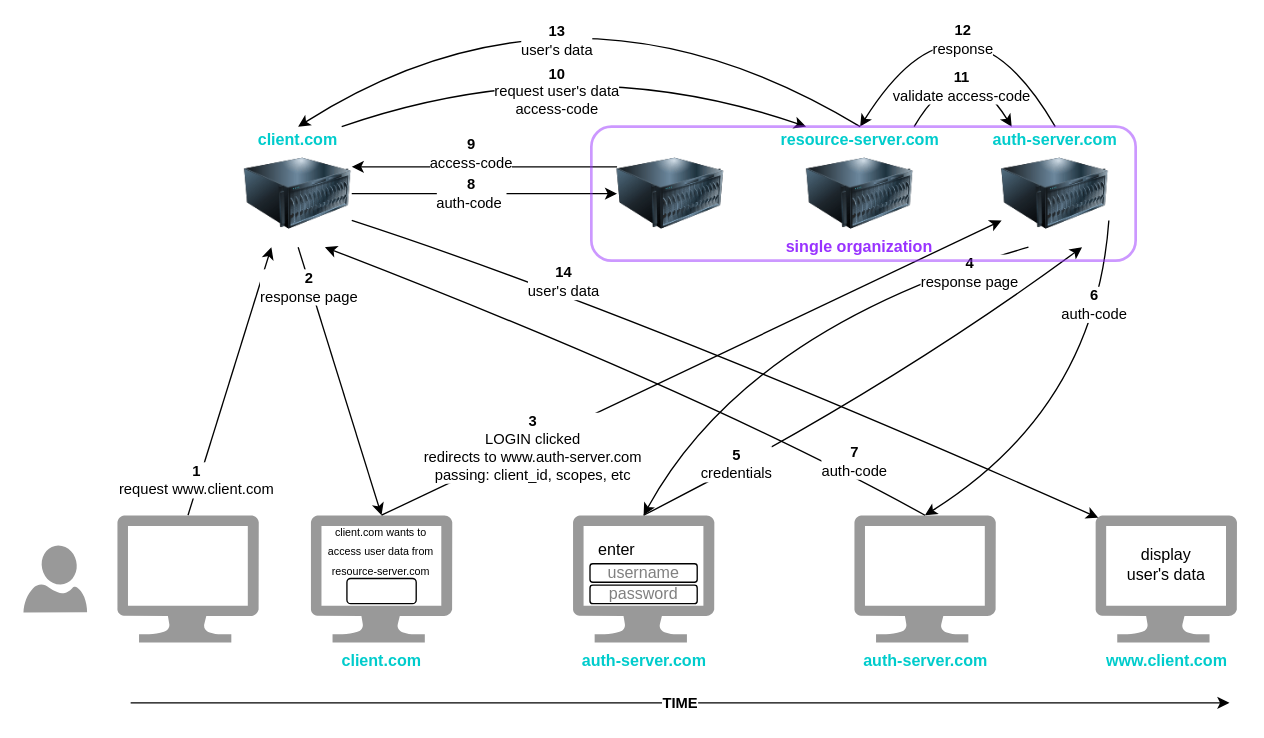
This 1264x738 diagram has some shape labels left out. The box of each missing label's shape, as (x1, y1, x2, y2) in pixels:
blank: (117, 515, 258, 642)
LOGIN: (346, 577, 416, 604)
token-server.com: (616, 139, 724, 247)
User: (23, 545, 86, 612)
